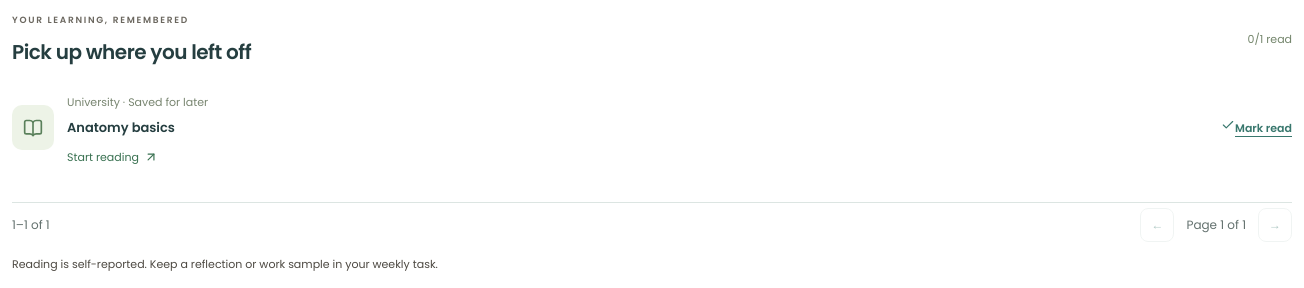
Test: saved learning returns on Today and records reading progress
expect the heading "Pick up where you left off" is shown: met, box [12,37,251,67]
Click the button "Mark read": point(1256, 128) [1221,118,1292,137]
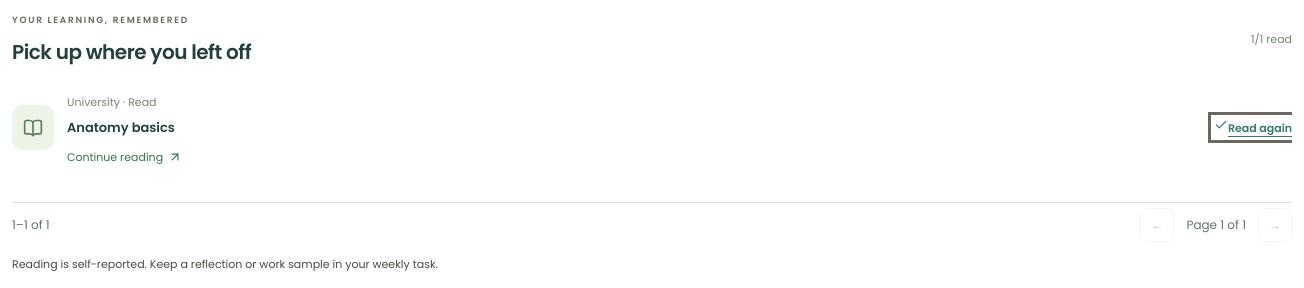
expect the text "1/1 read" is shown: met, box [1251,31,1292,48]
